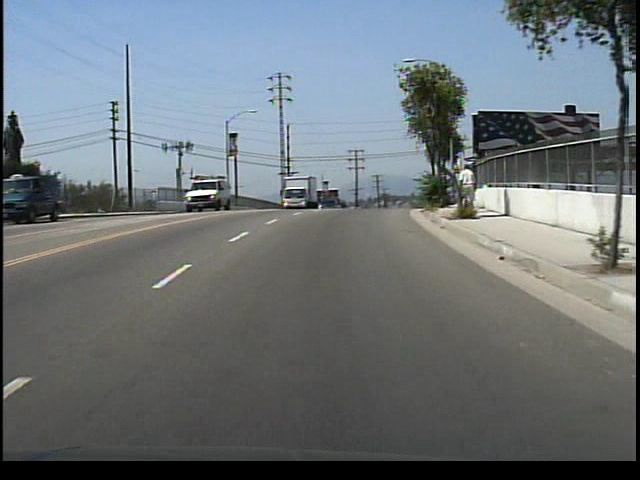person: (454, 162, 478, 217)
